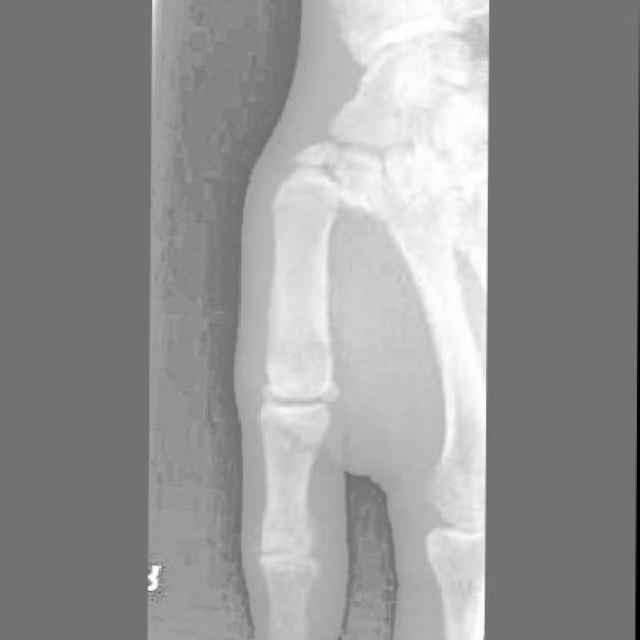Fracture: (293, 140, 384, 213)
